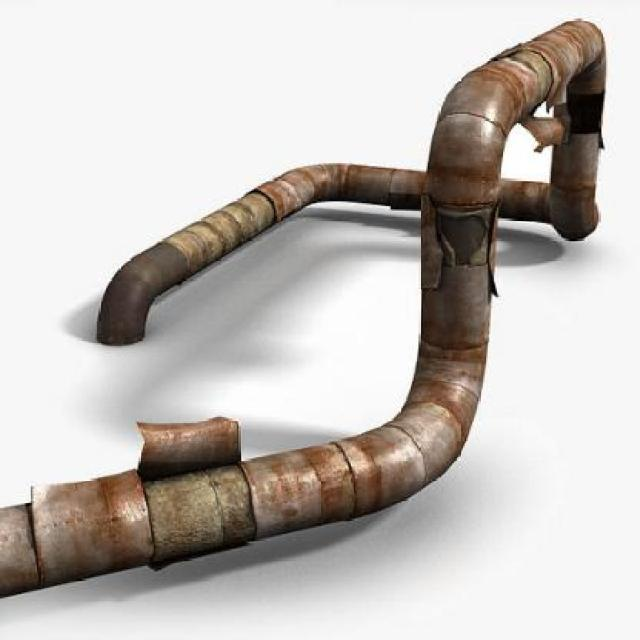corrosion: (0, 15, 609, 594)
